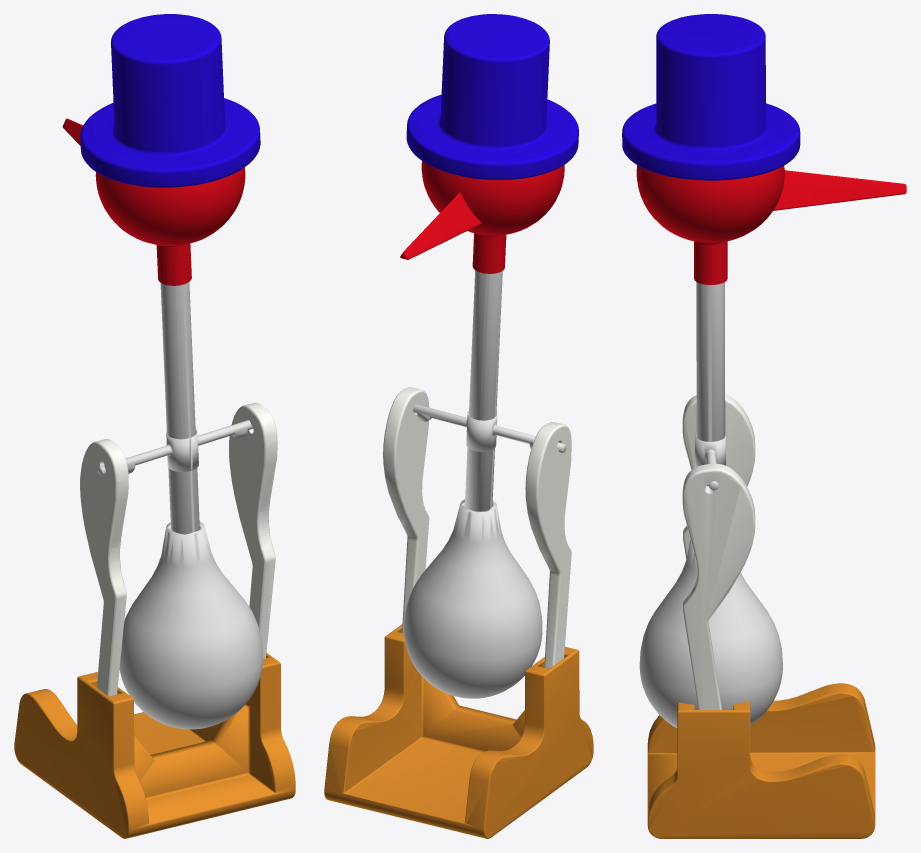
Rendered from drinkingbird.glb.
The picture shows the model from 3 angles, left to right: view 1: azimuth 30°, elevation 25°; view 2: azimuth 150°, elevation 25°; view 3: azimuth 270°, elevation 25°; orthographic projection. The views are drawn at different scales.
Parts seen in each view (by area): view 1: Bird_Base, Bulb_and_Head.001, Bird_Hat, Bulb_and_Head, Bird_Leg.001, Bird_Leg, Connecting_Band; view 2: Bird_Base, Bulb_and_Head.001, Bird_Hat, Bulb_and_Head, Bird_Leg.001, Bird_Leg, Connecting_Band; view 3: Bird_Base, Bird_Hat, Bulb_and_Head.001, Bulb_and_Head, Bird_Leg, Bird_Leg.001, Connecting_Band.
Part boxes in pixels (bbox=[...]): Bird_Base: bbox=[14, 652, 295, 838]; Bulb_and_Head.001: bbox=[119, 282, 263, 729]; Bird_Hat: bbox=[80, 14, 260, 187]; Bulb_and_Head: bbox=[62, 118, 245, 285]; Bird_Leg.001: bbox=[80, 439, 128, 696]; Bird_Leg: bbox=[229, 402, 277, 658]; Connecting_Band: bbox=[97, 420, 252, 475]; Bird_Base: bbox=[324, 624, 593, 838]; Bulb_and_Head.001: bbox=[404, 270, 542, 698]; Bird_Hat: bbox=[406, 14, 578, 179]; Bulb_and_Head: bbox=[400, 161, 564, 273]; Bird_Leg.001: bbox=[525, 422, 571, 668]; Bird_Leg: bbox=[383, 387, 429, 633]; Connecting_Band: bbox=[413, 404, 566, 452]; Bird_Base: bbox=[647, 683, 875, 838]; Bird_Hat: bbox=[622, 14, 800, 180]; Bulb_and_Head.001: bbox=[639, 282, 782, 727]; Bulb_and_Head: bbox=[636, 165, 906, 284]; Bird_Leg: bbox=[682, 463, 755, 709]; Bird_Leg.001: bbox=[682, 393, 755, 558]; Connecting_Band: bbox=[695, 434, 725, 490].
Size of the model in its own units: 0.0417 by 0.1754 by 0.0595.
